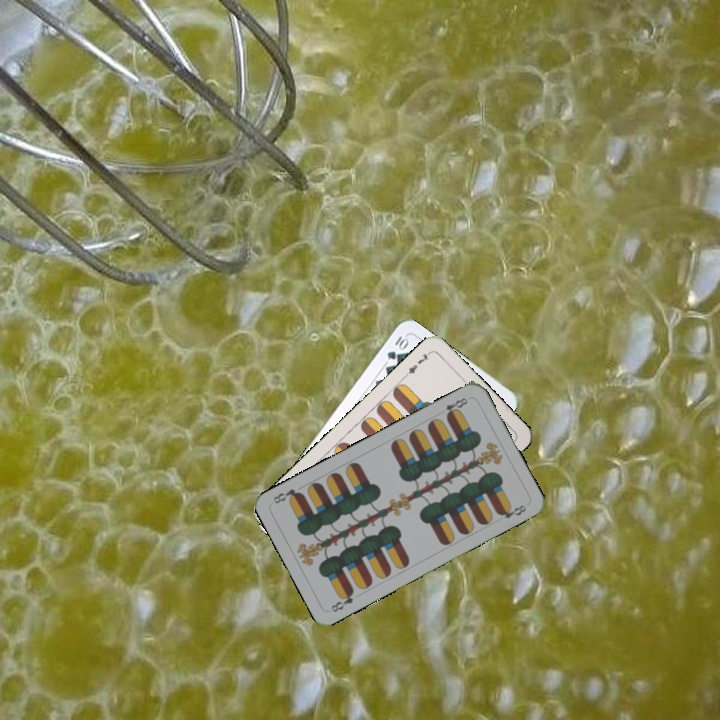E7: (401, 348, 433, 379)
E8: (327, 586, 356, 615), (441, 393, 470, 420)
G10: (383, 332, 411, 362)
